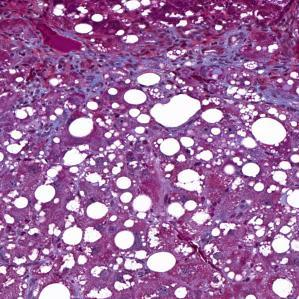fibrosis: (60, 46, 138, 92), (188, 43, 244, 80)
